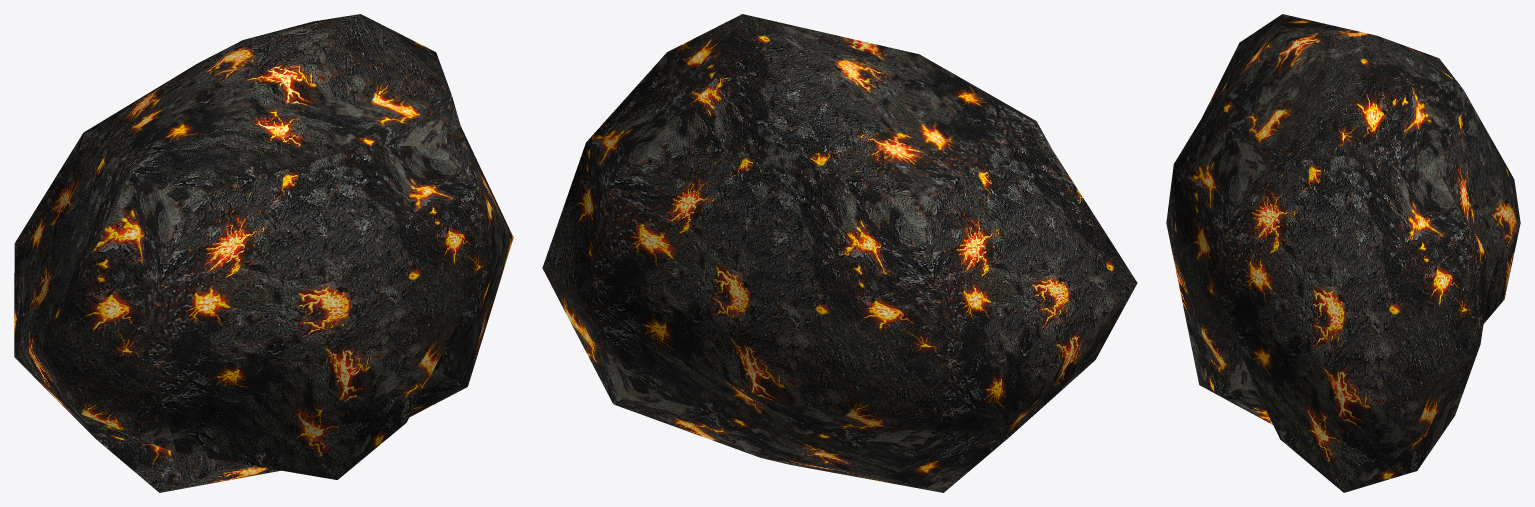
File: asteroid_moltenrock_radial_s02_l1.fbx
The picture shows the model from 3 angles, left to right: view 1: azimuth 30°, elevation 25°; view 2: azimuth 150°, elevation 25°; view 3: azimuth 270°, elevation 25°; orthographic projection. The views are drawn at different scales.
Parts seen in each view (by area): view 1: mesh_node; view 2: mesh_node; view 3: mesh_node.
Boxes of the visible parts, box(x1,y1,x2,y2) form: mesh_node: box(14, 14, 513, 492); mesh_node: box(542, 14, 1137, 492); mesh_node: box(1166, 14, 1520, 492).
Size of the model in its own units: 6.85 by 5.63 by 4.37.
1 material, 1 textured.
